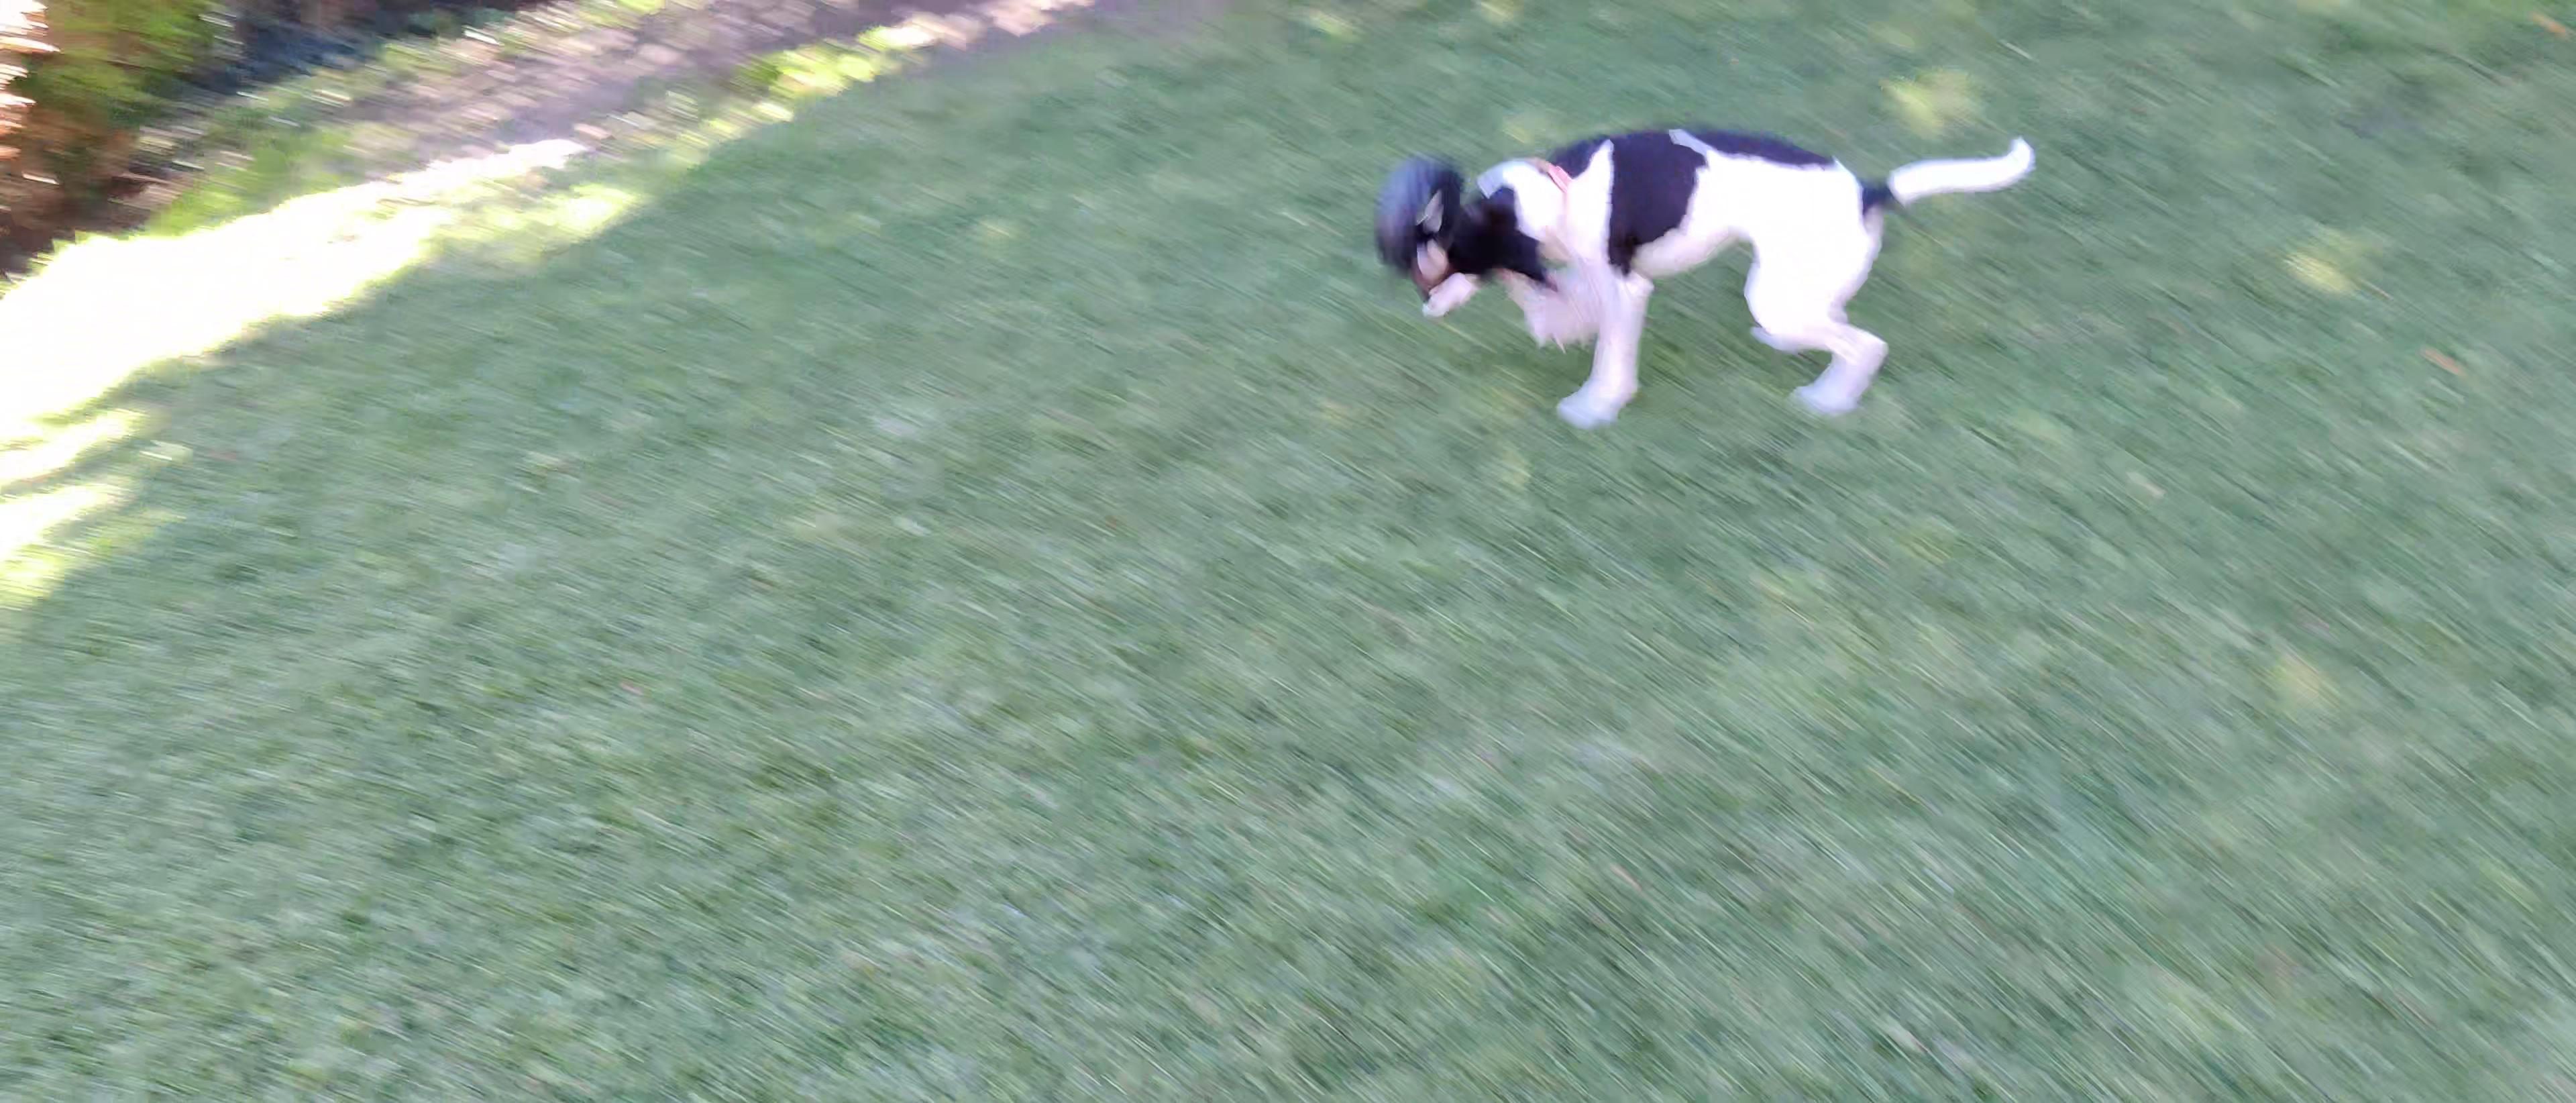Dog: (1352, 105, 2047, 434)
